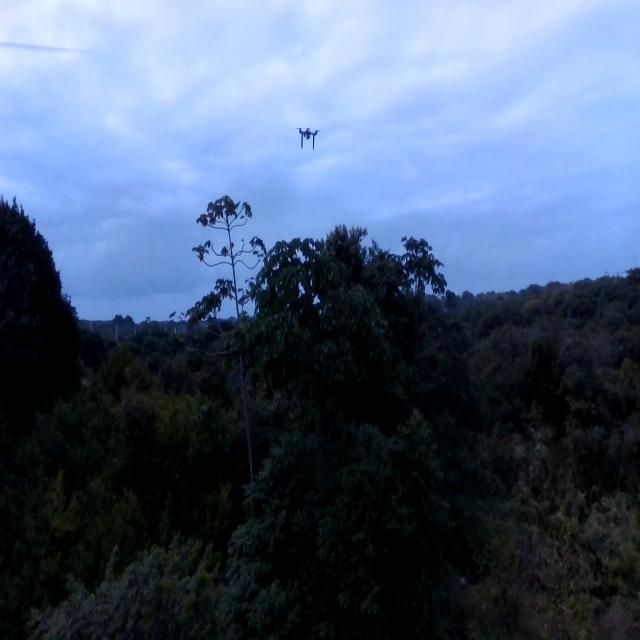-uav-: (288, 110, 326, 159)
